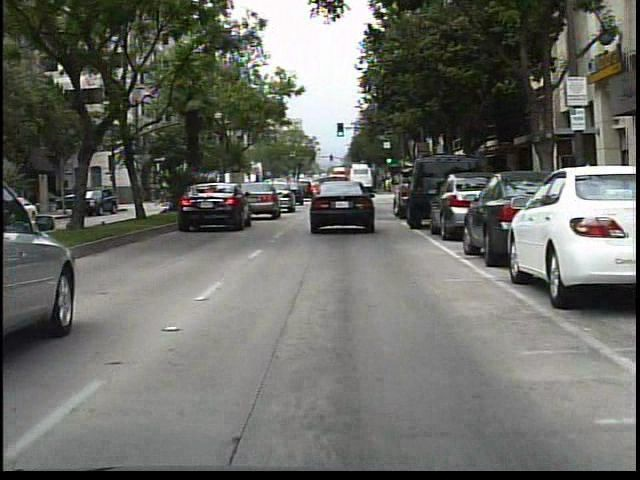person: (572, 154, 595, 220)
